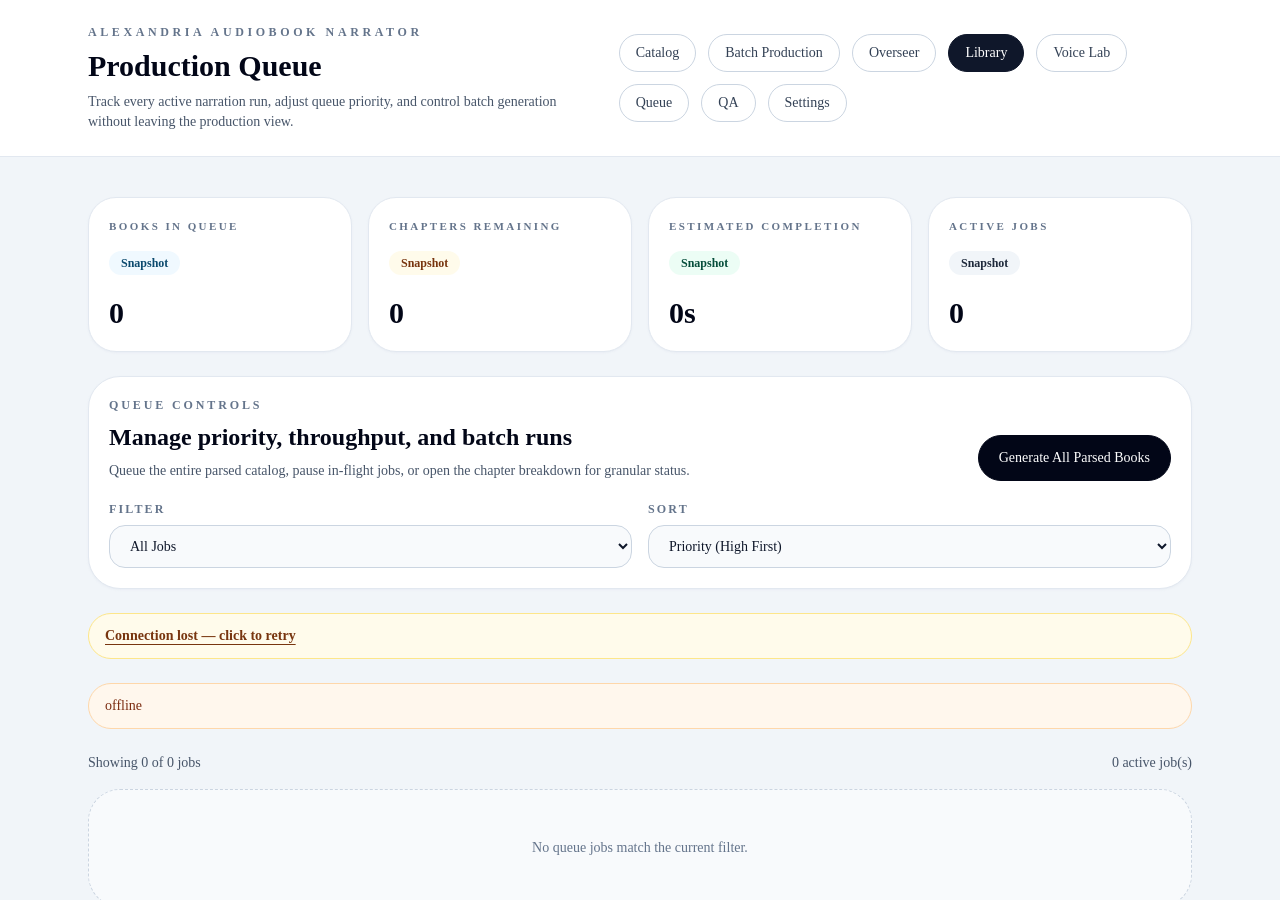
Queue page › shows a retry action after repeated polling failures and resumes on click
Click the button "Connection lost — click to retry" at (200, 636), box [105,626,296,646]
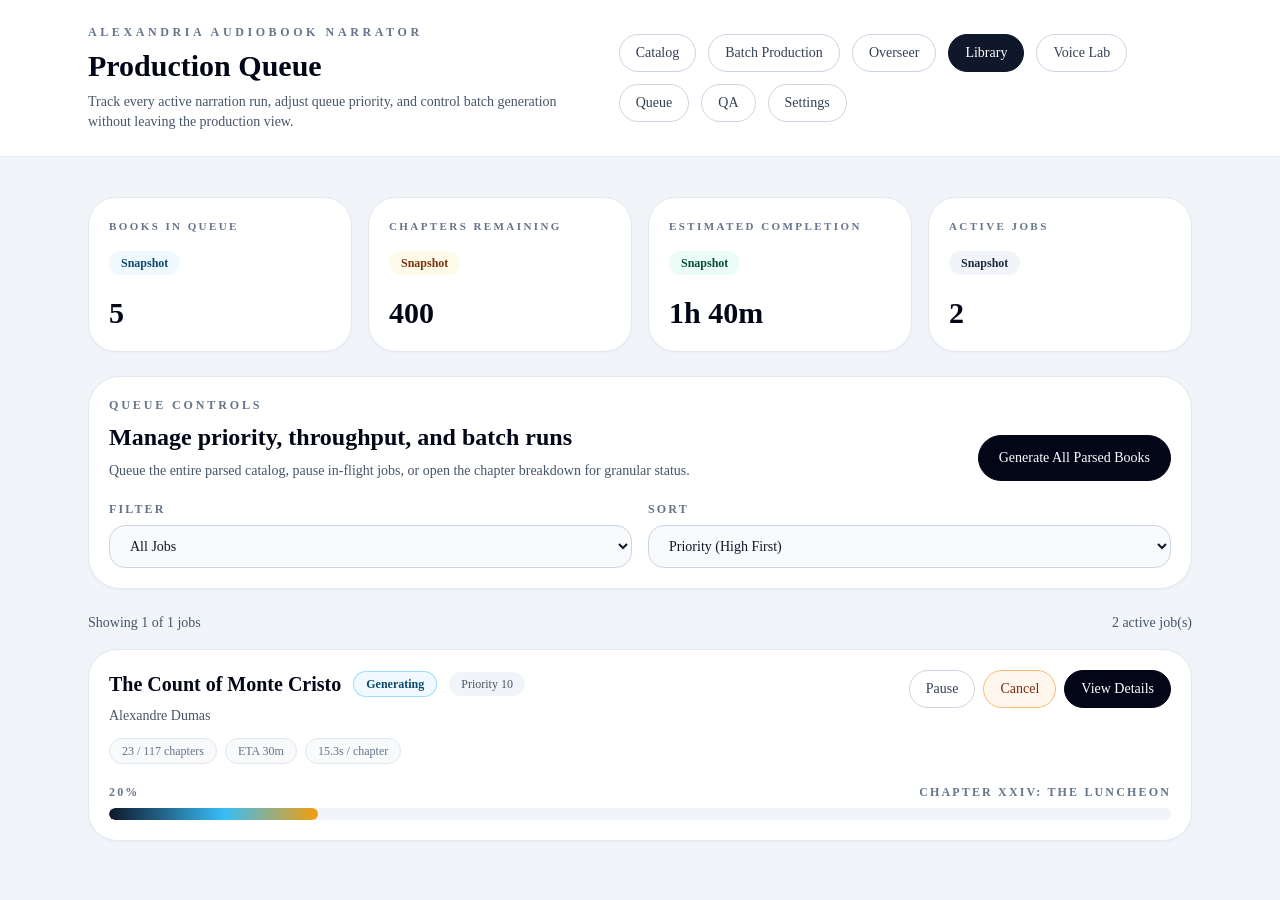
Expected: the text "The Count of Monte Cristo" is shown, [109,670,341,698]
Expected: the text "Connection lost — click to retry" is gone
